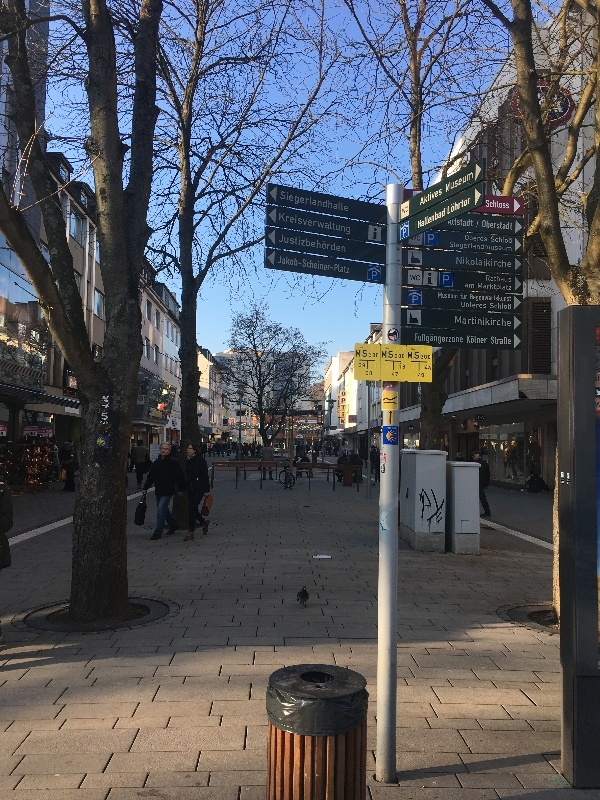text: (289, 212, 304, 236), (305, 212, 320, 236), (321, 212, 336, 236), (337, 212, 351, 236), (289, 191, 304, 213), (305, 191, 320, 213), (321, 191, 336, 213), (449, 172, 464, 194), (342, 392, 352, 425), (418, 208, 432, 230), (449, 196, 464, 216), (289, 234, 304, 253), (305, 234, 320, 253), (321, 234, 336, 253), (289, 256, 304, 274), (305, 256, 320, 274), (321, 256, 336, 274), (337, 397, 352, 415), (337, 191, 349, 213), (433, 208, 445, 230), (337, 256, 350, 274), (422, 187, 432, 207), (280, 212, 288, 236), (433, 187, 442, 207), (465, 256, 480, 268), (481, 256, 496, 268), (497, 256, 512, 268), (417, 333, 432, 345), (433, 333, 448, 345), (465, 172, 473, 194), (497, 220, 513, 231), (337, 234, 346, 253), (595, 348, 600, 382), (449, 333, 463, 345), (481, 282, 496, 293), (497, 282, 512, 293), (465, 316, 480, 327), (481, 316, 496, 327), (281, 191, 288, 213), (497, 316, 511, 327), (280, 234, 288, 253), (465, 242, 480, 252), (481, 242, 496, 252), (497, 242, 512, 252), (280, 256, 288, 274), (373, 227, 384, 240), (483, 220, 496, 231), (372, 270, 384, 281), (403, 228, 416, 238), (451, 242, 464, 252), (467, 335, 480, 345), (402, 206, 416, 215), (450, 218, 464, 227), (497, 336, 511, 345), (151, 407, 160, 421), (465, 196, 471, 216), (497, 200, 509, 210), (465, 235, 480, 243), (497, 275, 512, 283), (481, 294, 496, 302), (465, 301, 480, 309), (497, 294, 511, 302), (497, 237, 512, 244), (486, 200, 496, 210), (102, 412, 112, 422), (455, 316, 464, 327), (497, 303, 511, 310), (356, 350, 368, 358), (457, 256, 464, 268), (486, 275, 496, 283), (465, 218, 473, 227), (439, 292, 448, 300), (449, 292, 458, 300), (471, 294, 480, 302), (466, 284, 480, 289), (370, 353, 384, 358), (419, 373, 432, 378), (481, 335, 487, 345), (1, 432, 16, 436), (481, 235, 488, 243), (385, 351, 393, 358), (408, 352, 416, 359), (359, 363, 368, 369), (443, 275, 448, 285), (428, 273, 432, 285), (481, 301, 487, 309), (491, 336, 496, 345), (1, 428, 16, 431), (446, 172, 448, 194), (428, 234, 432, 245), (421, 355, 432, 359), (490, 303, 496, 310), (73, 380, 80, 386), (390, 328, 400, 332), (392, 372, 400, 377), (38, 429, 48, 433), (387, 427, 400, 430), (307, 435, 320, 438), (410, 275, 416, 281), (391, 338, 400, 342), (491, 237, 496, 244), (425, 366, 432, 371), (386, 348, 400, 350), (161, 407, 163, 421), (409, 426, 416, 430), (395, 354, 400, 359), (412, 235, 416, 241), (417, 235, 421, 241), (413, 296, 416, 304), (433, 234, 435, 245), (478, 282, 480, 293), (461, 293, 464, 300), (465, 293, 468, 300), (417, 352, 420, 359), (25, 428, 32, 431), (41, 434, 48, 437), (401, 354, 405, 359), (401, 365, 405, 370), (475, 422, 480, 426), (417, 275, 420, 281), (478, 220, 480, 228), (417, 296, 419, 304), (462, 301, 464, 309), (360, 347, 368, 349), (481, 416, 485, 420), (27, 433, 32, 436), (461, 423, 464, 428), (382, 351, 384, 358), (415, 333, 416, 345), (369, 372, 372, 376), (33, 428, 37, 431), (49, 430, 53, 433), (350, 416, 352, 422), (449, 275, 450, 285), (30, 431, 32, 436), (33, 431, 35, 436), (412, 349, 416, 351), (478, 416, 480, 420), (46, 434, 48, 438), (353, 416, 354, 422), (367, 372, 368, 376), (49, 434, 50, 438), (47, 430, 48, 433), (305, 435, 306, 438)
